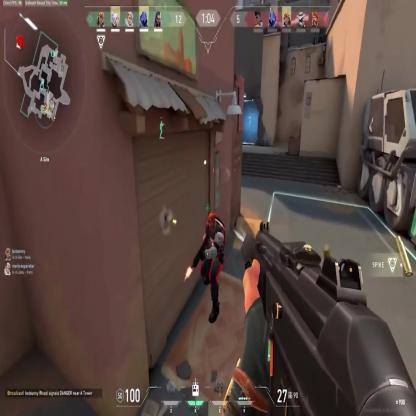enemy: (199, 212, 226, 322)
enemy_head: (206, 213, 216, 231)
